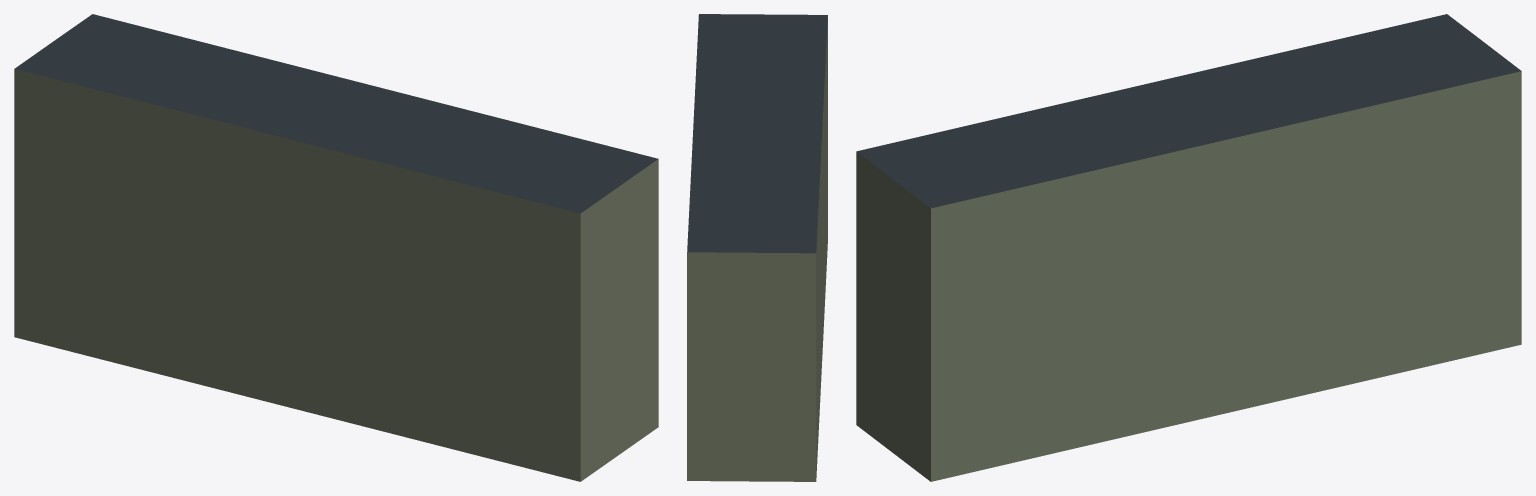
The model's file is nyc-1080607-0.glb.
The picture shows the model from 3 angles, left to right: view 1: azimuth 30°, elevation 25°; view 2: azimuth 150°, elevation 25°; view 3: azimuth 270°, elevation 25°; orthographic projection. The views are drawn at different scales.
Parts seen in each view (by area): view 1: nyc-1080607-0; view 2: nyc-1080607-0; view 3: nyc-1080607-0.
Part boxes in pixels (bbox=[...]): nyc-1080607-0: bbox=[14, 14, 658, 481]; nyc-1080607-0: bbox=[687, 14, 827, 481]; nyc-1080607-0: bbox=[856, 14, 1521, 481].
Size of the model in its own units: 18.48 by 12.12 by 26.73.
